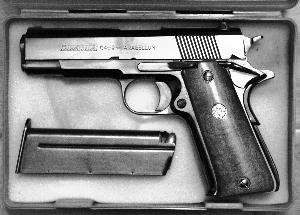handgun: (12, 28, 280, 207)
